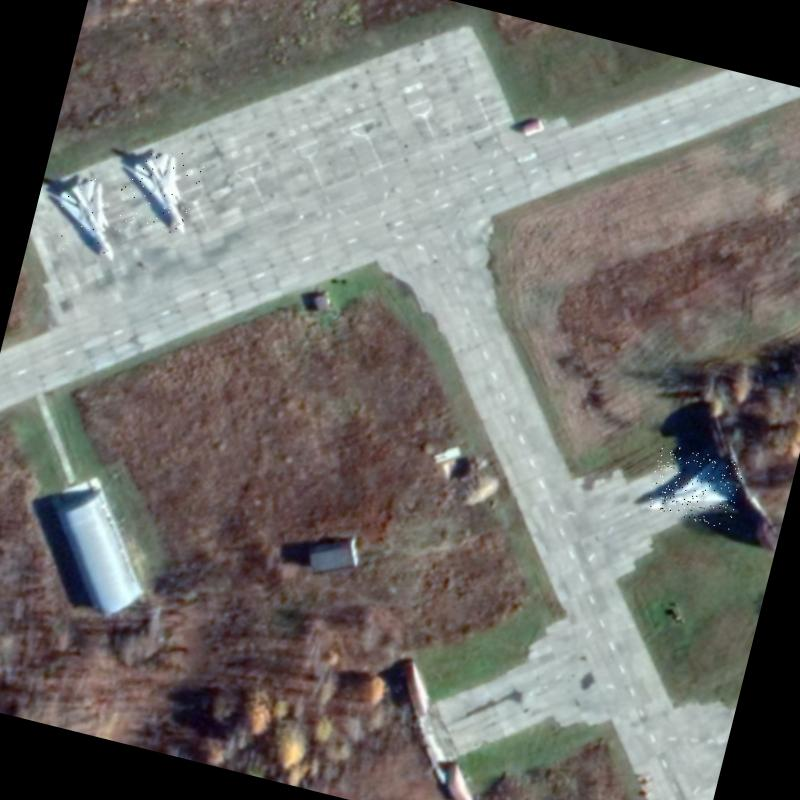A20: (645, 443, 745, 530), (120, 142, 207, 237), (47, 170, 134, 262)
